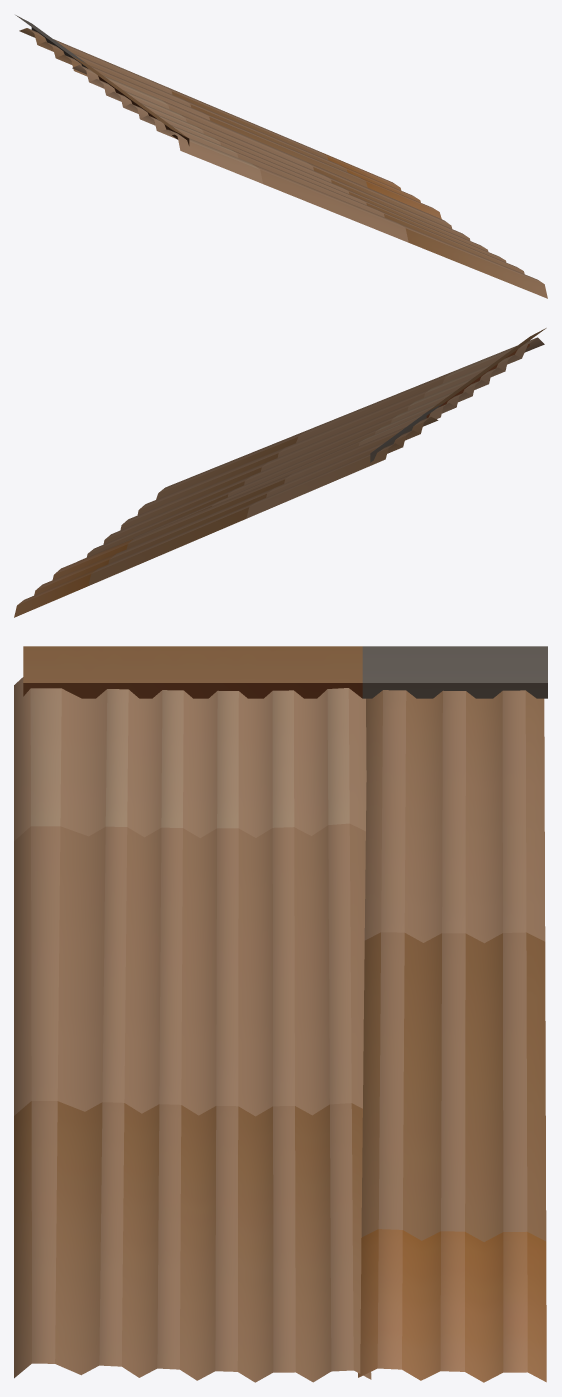
The model's file is SM_Building_MetalRoof_02.fbx.
3 renders of one model, top to bottom at view 1: azimuth 30°, elevation 25°; view 2: azimuth 150°, elevation 25°; view 3: azimuth 270°, elevation 25°, orthographic. The views are drawn at different scales.
Visible parts, largest first — view 1: SM_Building_MetalRoof_02; view 2: SM_Building_MetalRoof_02; view 3: SM_Building_MetalRoof_02.
Part boxes in pixels (x1=…): SM_Building_MetalRoof_02: x1=15, y1=15, x2=547, y2=298; SM_Building_MetalRoof_02: x1=14, y1=328, x2=546, y2=617; SM_Building_MetalRoof_02: x1=14, y1=646, x2=547, y2=1382.
Size of the model in its own units: 2.75 by 1.83 by 2.04.
